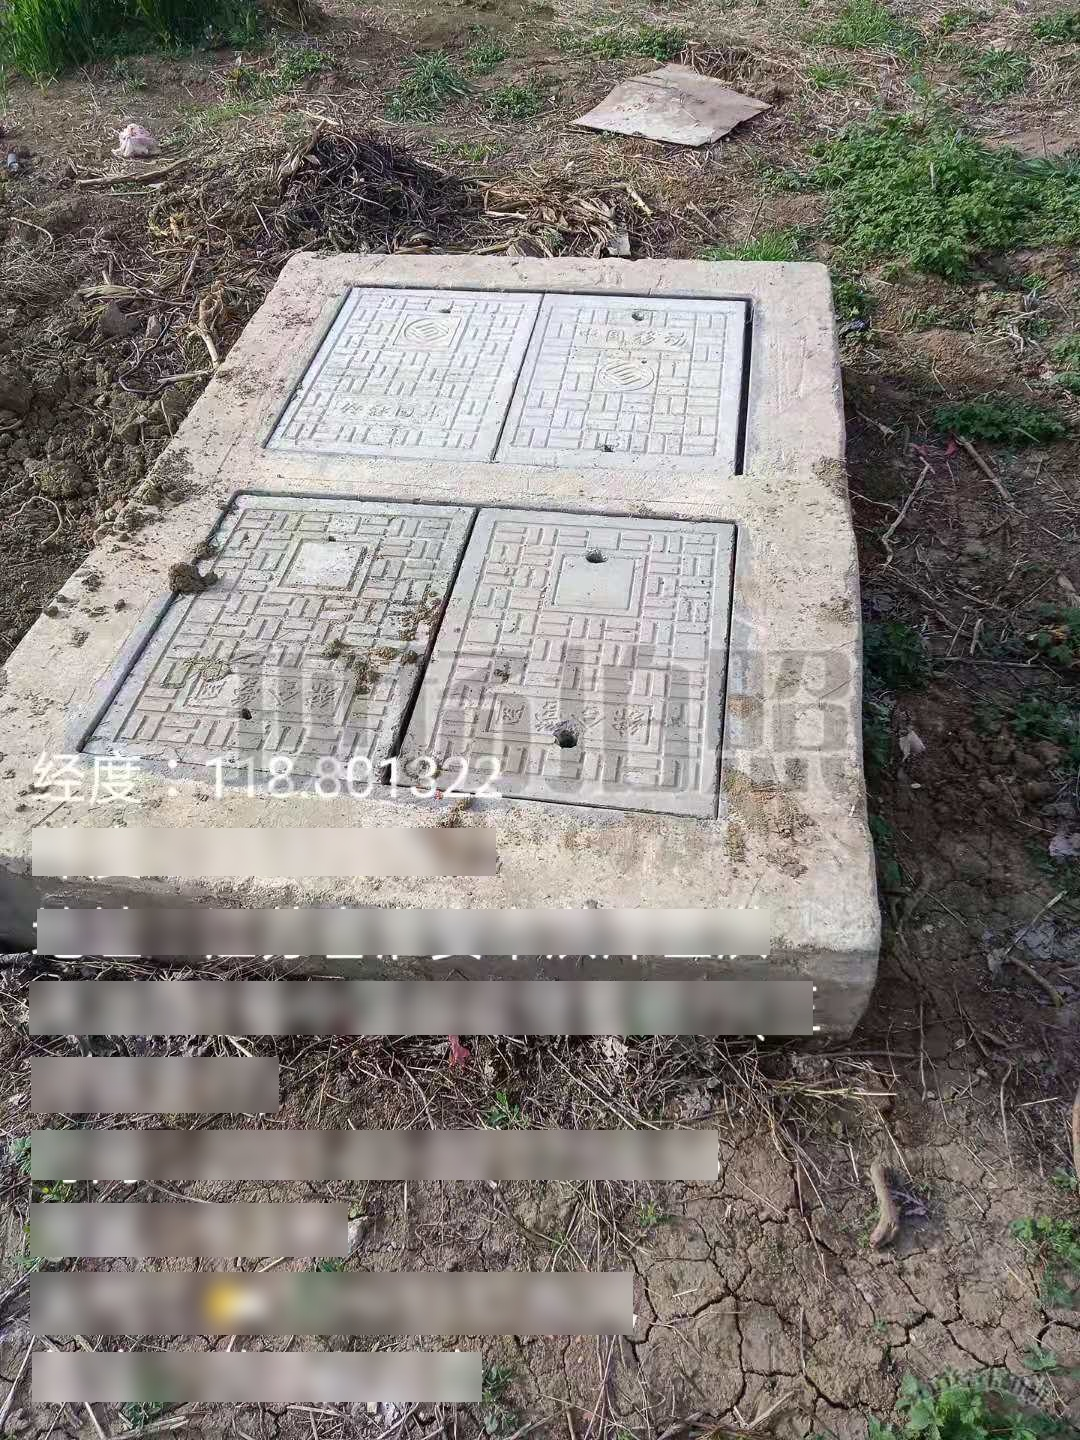good: (61, 488, 749, 829), (252, 279, 762, 488)
